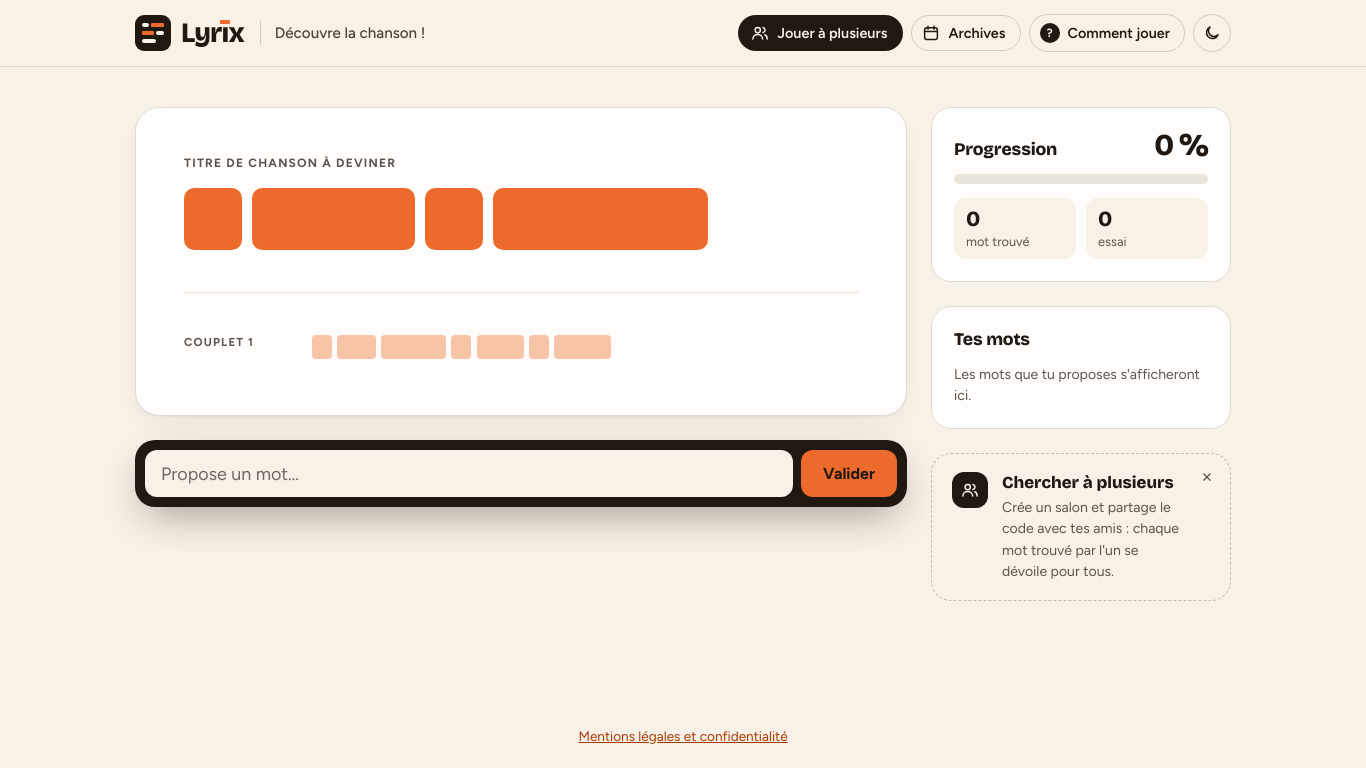
it: the multiplayer dialog › says so when the room can't be created
Expected: the field with placeholder "Propose un mot…" is shown, top-left (145, 450), bottom-right (793, 497)
What coordinates should you click on to do the following:
click the button "Jouer à plusieurs"
I would click on:
 (821, 33)
Its box is top-left (738, 15), bottom-right (904, 51).
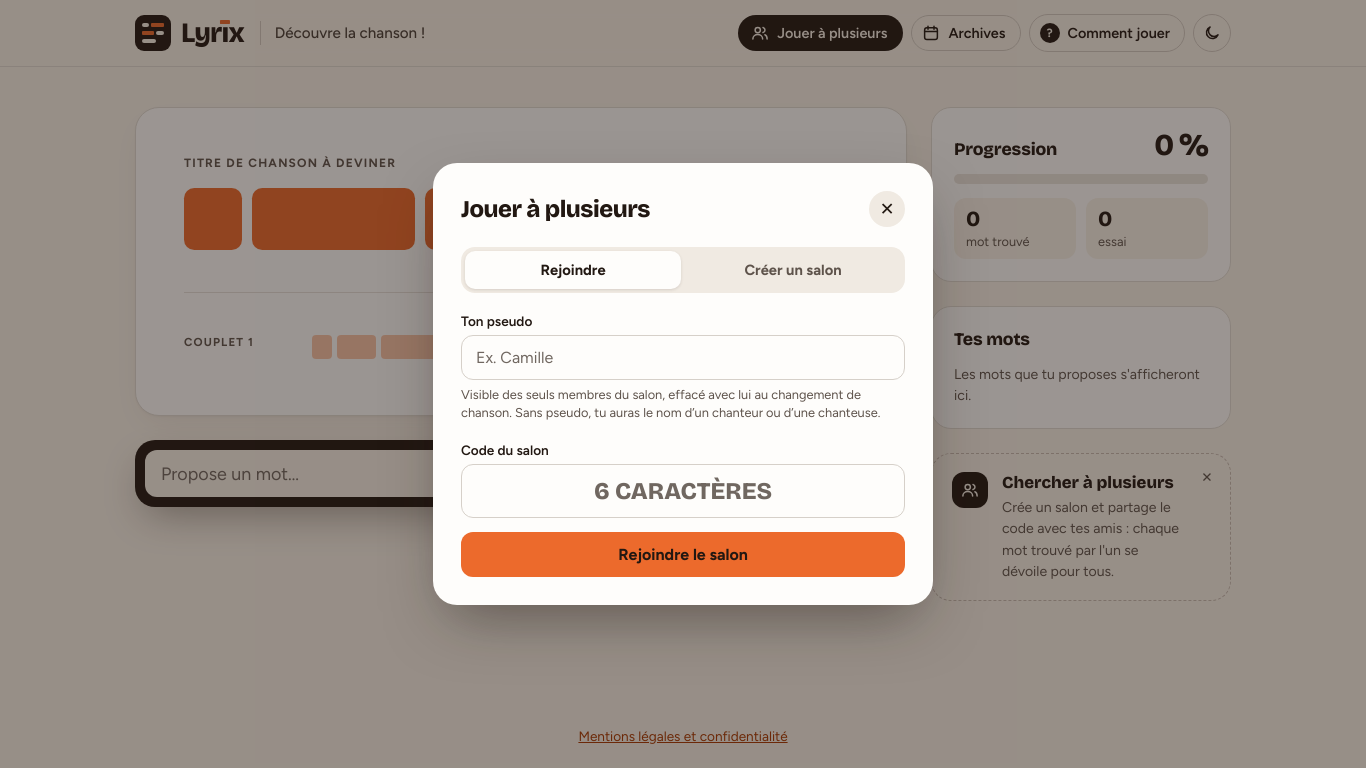
What coordinates should you click on to do the following:
click the tab "Créer un salon"
I would click on:
 (793, 270)
Its box is top-left (685, 251), bottom-right (901, 289).
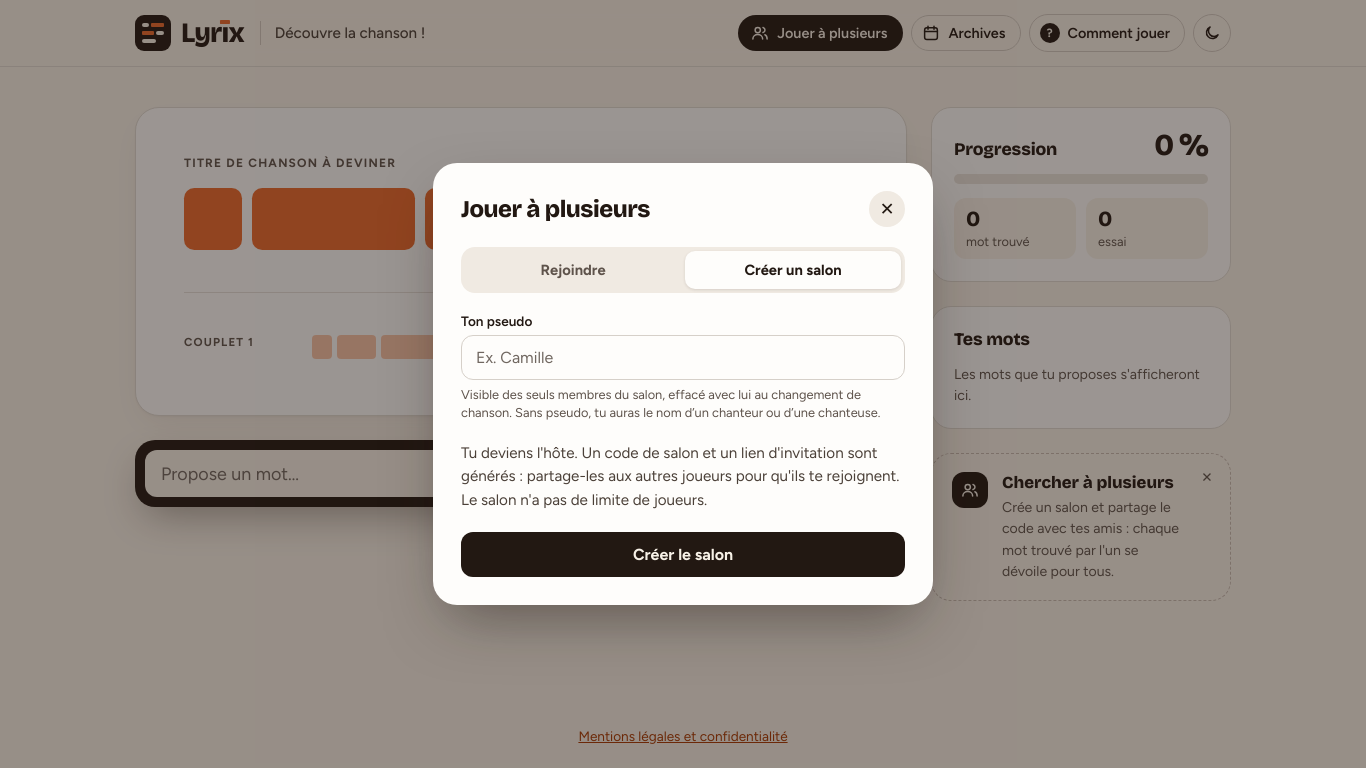
What coordinates should you click on to do the following:
click the button "Créer le salon"
I would click on:
 (683, 554)
Its box is top-left (461, 532), bottom-right (905, 577).
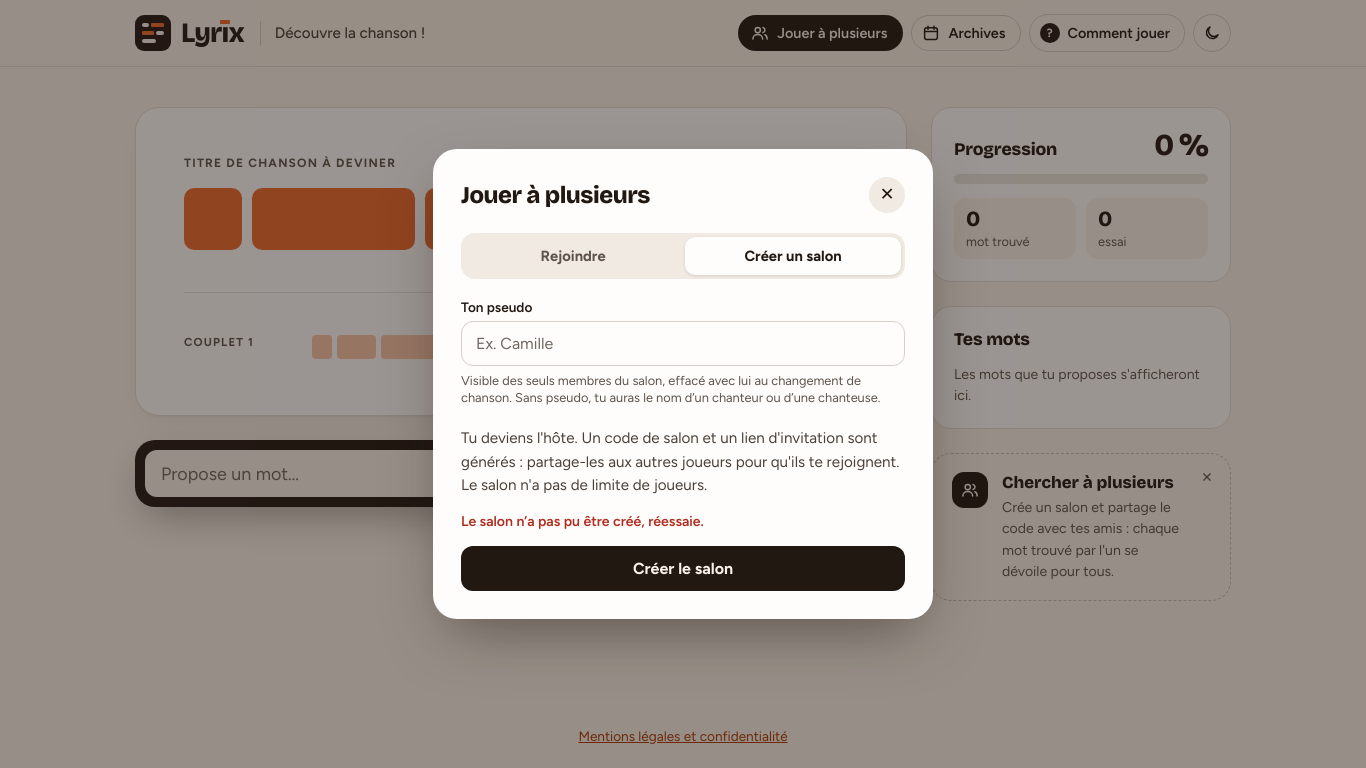
Expected: the message reads "Le salon n’a pas pu être créé, réessaie.", top-left (461, 513), bottom-right (704, 530)
